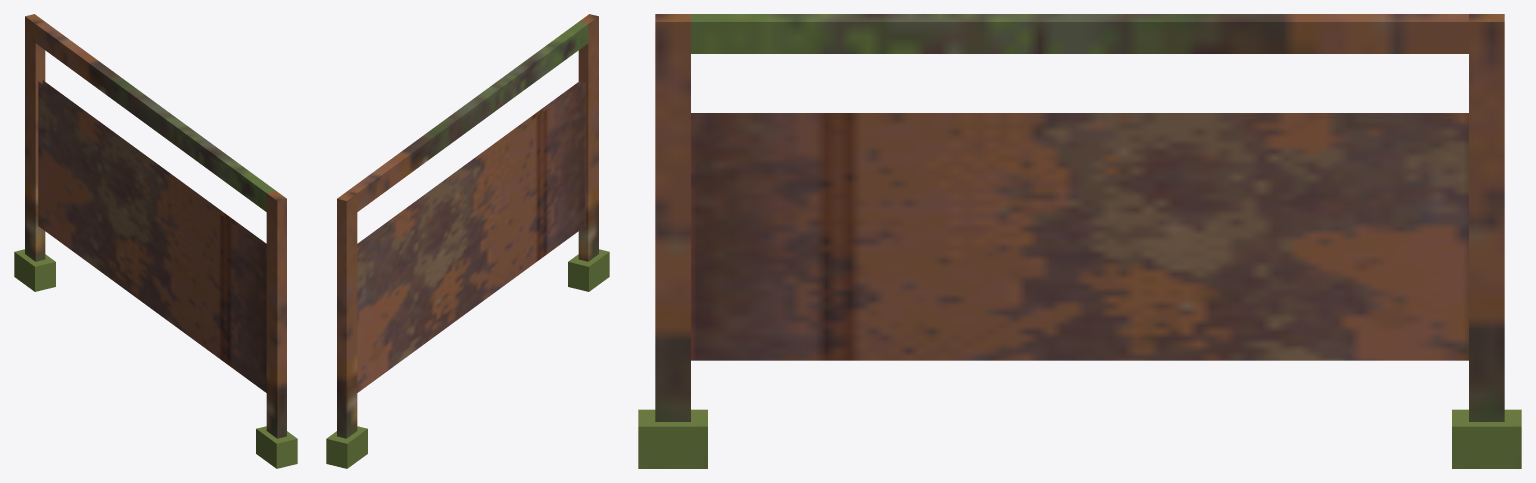
File: MO_METAL_FENCE_02_001.fbx
3 renders of one model, left to right at view 1: azimuth 30°, elevation 25°; view 2: azimuth 150°, elevation 25°; view 3: azimuth 270°, elevation 25°, orthographic. The views are drawn at different scales.
Visible parts, largest first — view 1: MO_METAL_FENCE_02.001; view 2: MO_METAL_FENCE_02.001; view 3: MO_METAL_FENCE_02.001.
Boxes of the visible parts, <box> form: MO_METAL_FENCE_02.001: <box>14,14,297,468</box>; MO_METAL_FENCE_02.001: <box>326,14,609,468</box>; MO_METAL_FENCE_02.001: <box>638,14,1521,468</box>.
Bounding box in the file's own units: 0.0872 × 1.05 × 1.9.
